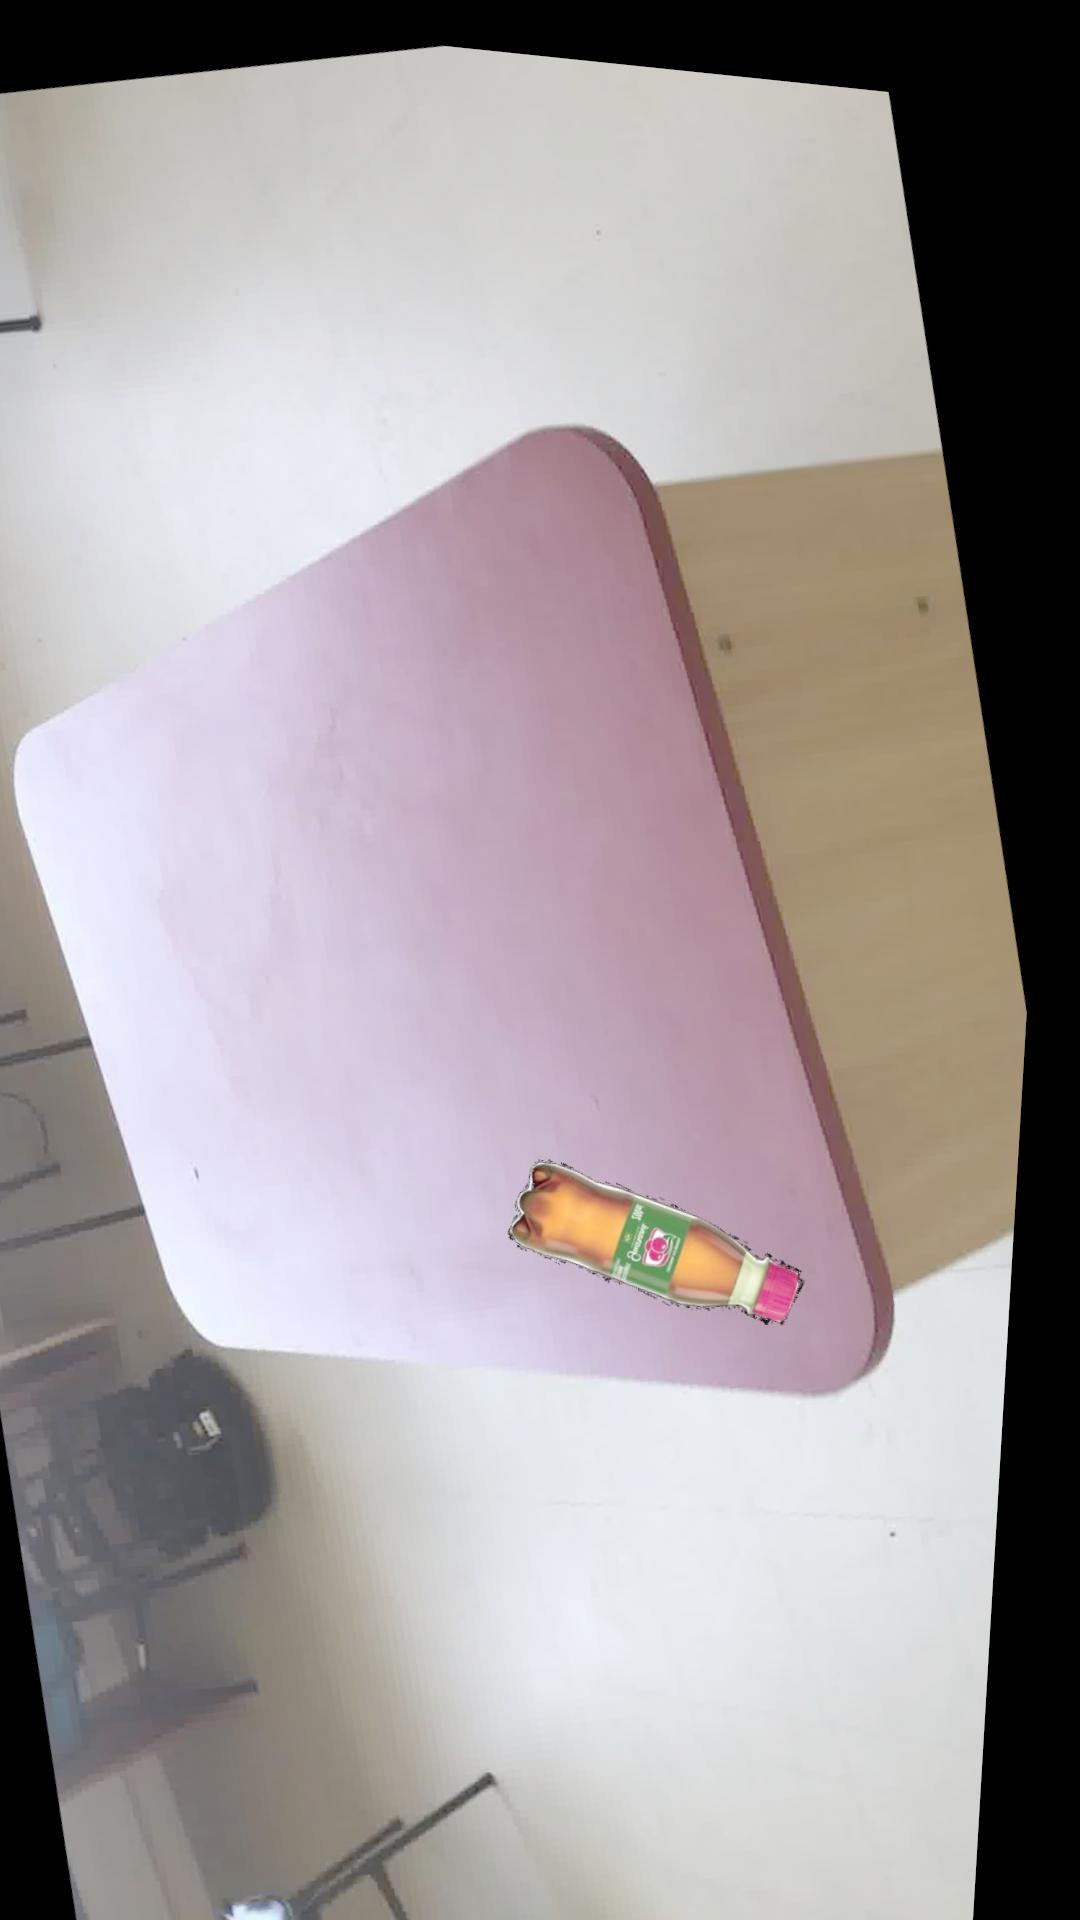guarana: (522, 1143, 819, 1304)
